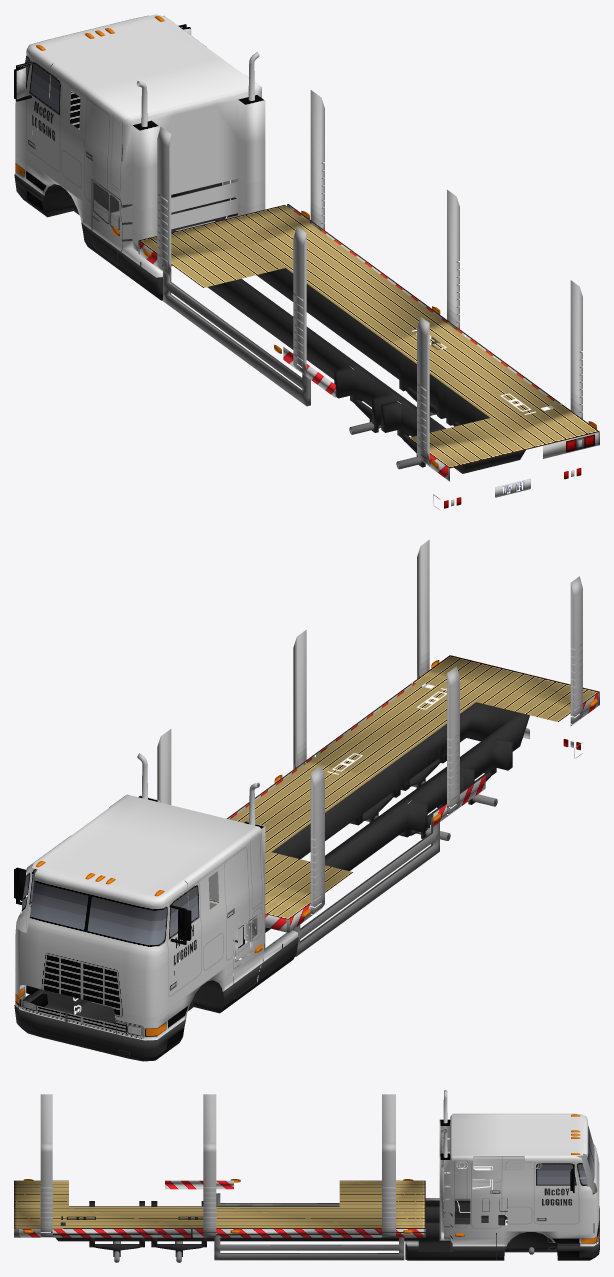
Rendered from 88navistarlogging2.fbx.
3 views of the same model, one above another, from view 1: azimuth 30°, elevation 25°; view 2: azimuth 150°, elevation 25°; view 3: azimuth 270°, elevation 25° (orthographic). The views are drawn at different scales.
Parts seen in each view (by area): view 1: navistar1logging; view 2: navistar1logging; view 3: navistar1logging.
Boxes of the visible parts, bbox=[...] form: navistar1logging: bbox=[14, 14, 599, 509]; navistar1logging: bbox=[14, 540, 599, 1061]; navistar1logging: bbox=[14, 1090, 599, 1262].
Bounding box in the file's own units: 2.89 × 3.3 × 12.61.
